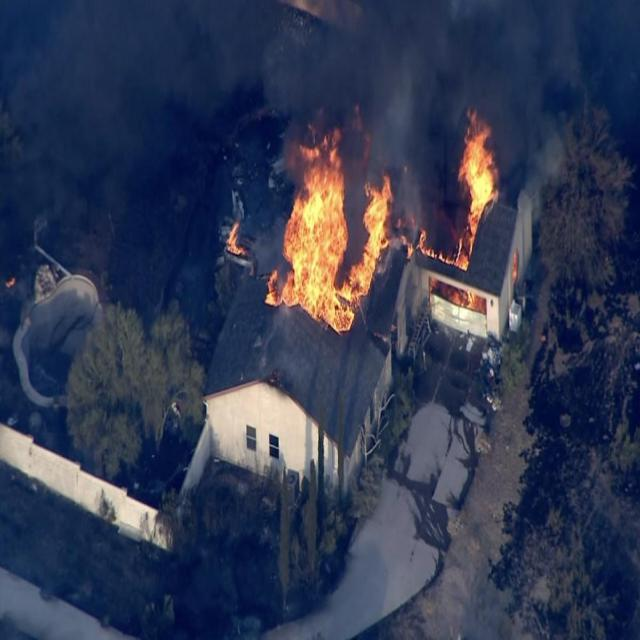fire: (280, 119, 395, 340), (450, 96, 504, 267)
